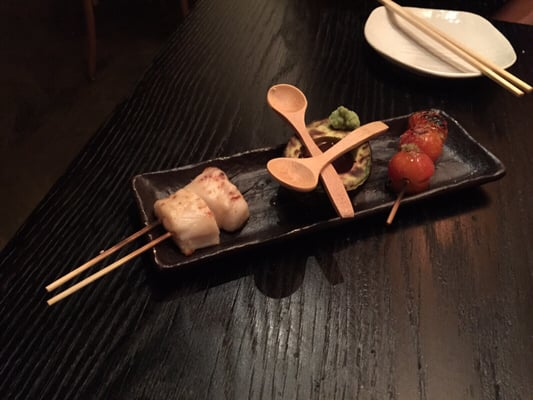salad: (267, 83, 325, 159)
sandwich: (377, 2, 532, 98)
